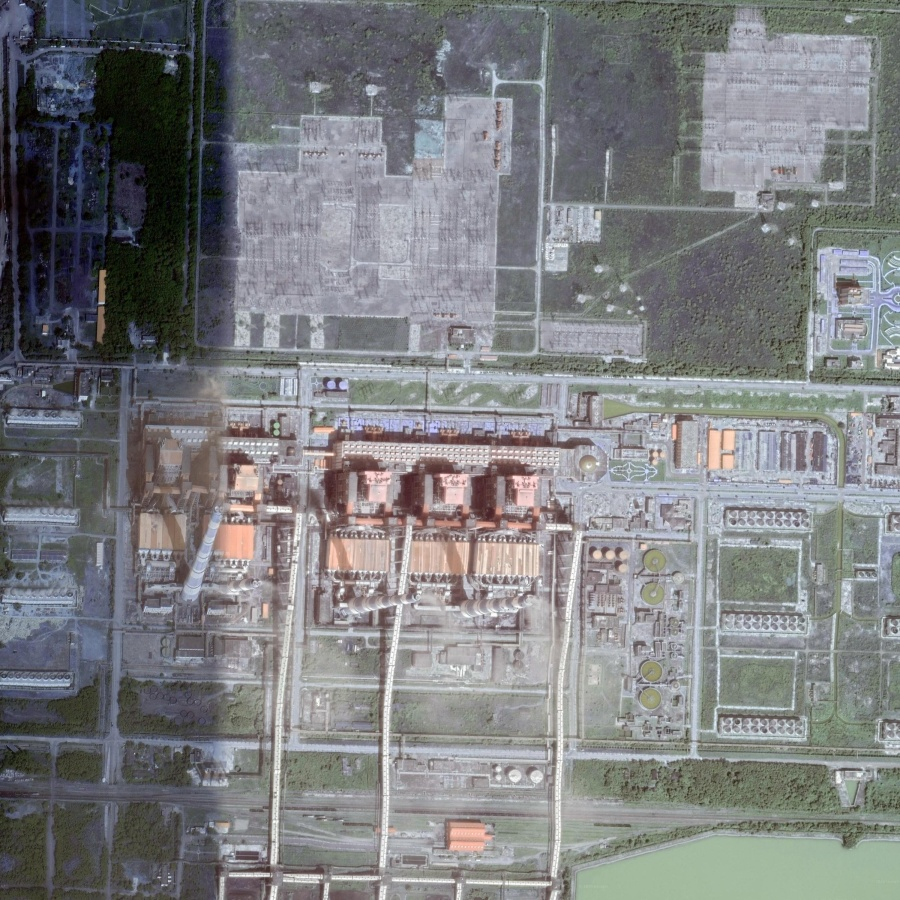PowerPlant: (113, 359, 575, 701)
